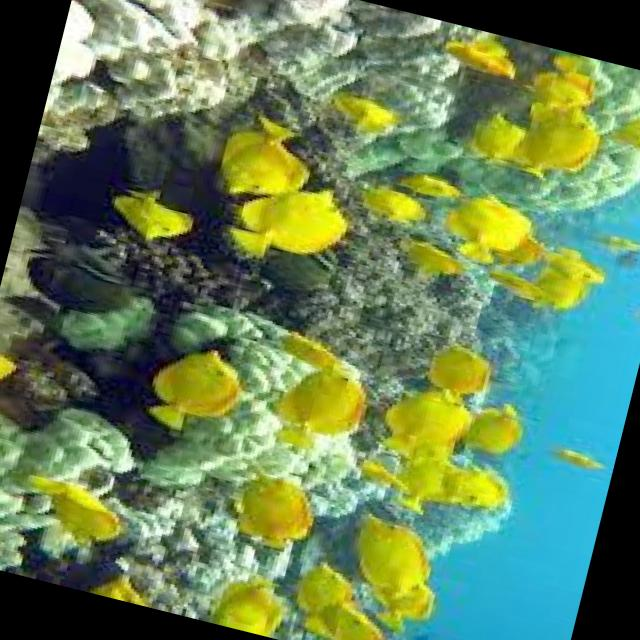YellowTang: (216, 158, 372, 284), (132, 338, 252, 446), (209, 457, 327, 566), (502, 228, 610, 336), (200, 110, 320, 206), (507, 96, 618, 198), (362, 378, 487, 468), (274, 360, 378, 458), (13, 470, 132, 554), (439, 178, 540, 268), (341, 515, 439, 603), (415, 322, 503, 404), (100, 182, 198, 252), (461, 107, 545, 182), (209, 571, 294, 640), (315, 86, 414, 145), (523, 52, 604, 119), (427, 34, 520, 90), (446, 456, 530, 517), (464, 400, 540, 466), (301, 589, 397, 640), (291, 563, 359, 626), (392, 162, 472, 210), (401, 236, 478, 285), (88, 565, 170, 611), (377, 576, 449, 626), (360, 183, 431, 233), (545, 439, 606, 482), (599, 111, 640, 169), (598, 221, 640, 264), (0, 345, 28, 392)
